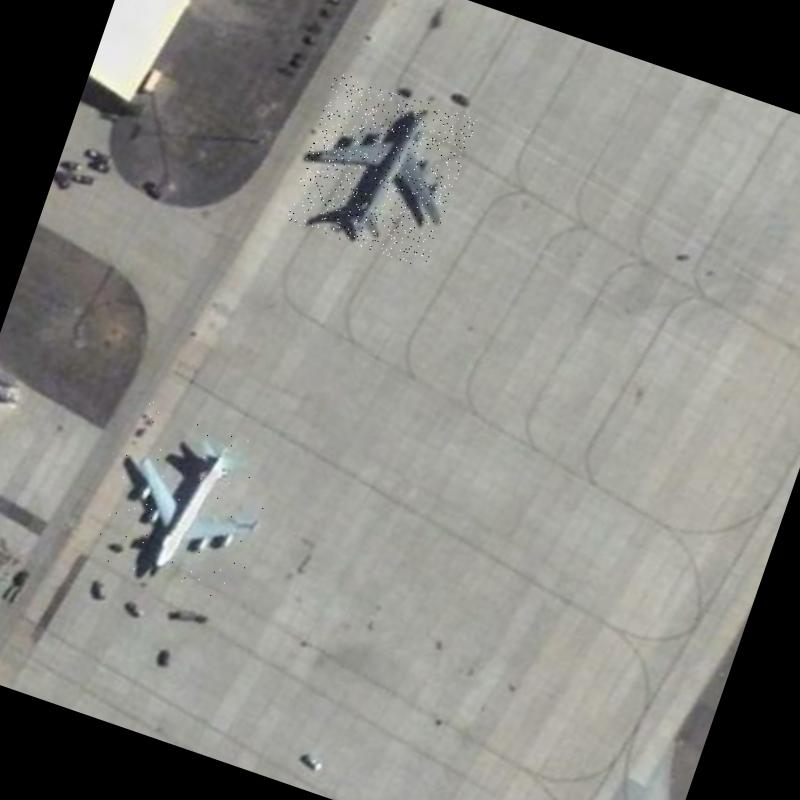A11: (91, 399, 287, 606)
A14: (285, 72, 477, 270)
